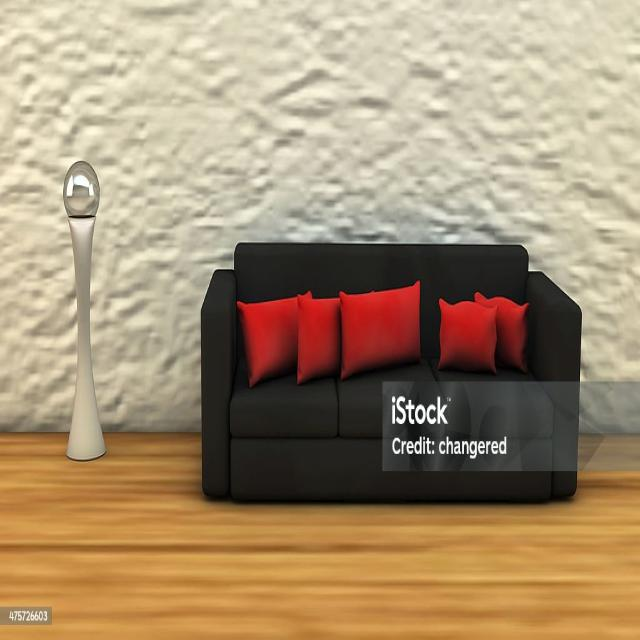back_cushion: (234, 242, 528, 358)
base: (230, 440, 556, 500)
left_arm: (526, 272, 581, 494)
right_arm: (201, 270, 236, 495)
seat_cushion: (230, 361, 554, 469)
stallion-sofa1: (201, 244, 581, 500)
